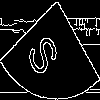S: (25, 25, 66, 80)
